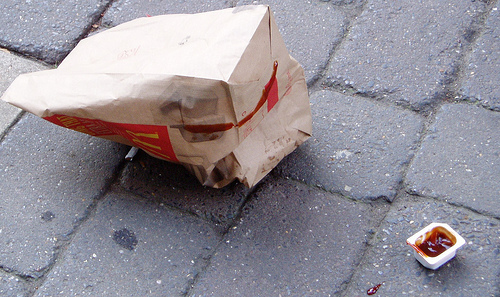litter: (2, 4, 309, 190), (404, 221, 463, 271)
